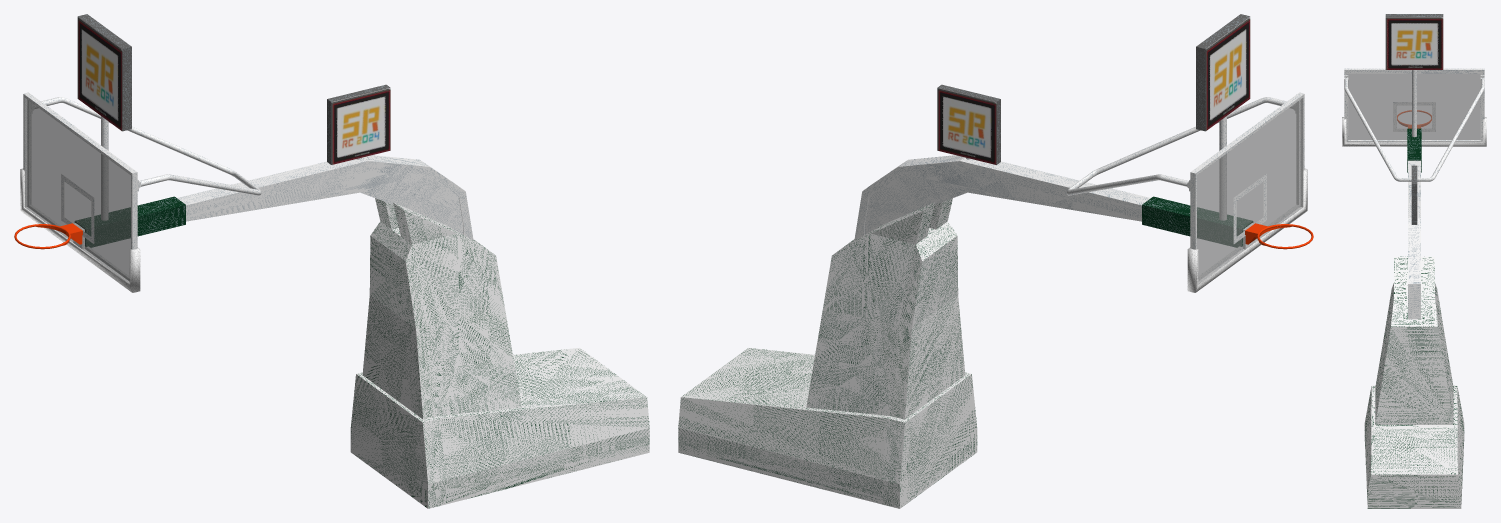
3 renders of one model, left to right at view 1: azimuth 30°, elevation 25°; view 2: azimuth 150°, elevation 25°; view 3: azimuth 270°, elevation 25°, orthographic. The views are drawn at different scales.
Parts seen in each view (by area): view 1: SketchUp (×13); view 2: SketchUp (×13); view 3: SketchUp (×13).
Boxes of the visible parts, x1,y1,x2,y2 form: SketchUp (×13): [20, 14, 649, 508]; SketchUp (×13): [678, 14, 1307, 508]; SketchUp (×13): [1342, 17, 1486, 508].
Bounding box in the file's own units: 227 × 74 × 189.
Materials: 8 (1 with a texture image).
